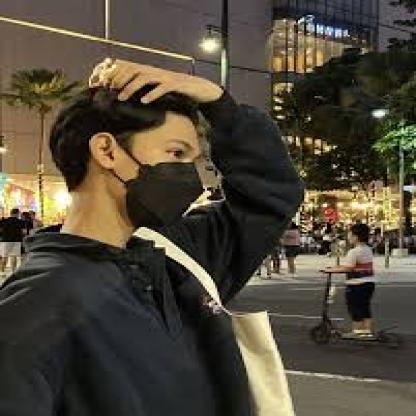person: (58, 87, 209, 235)
